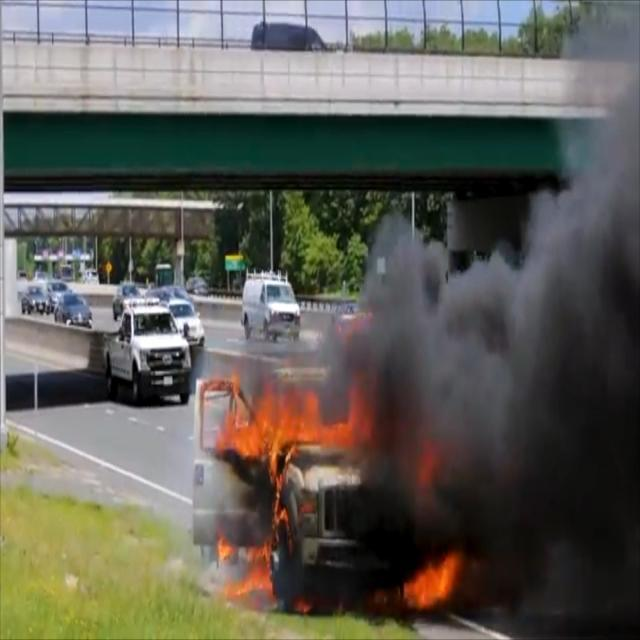fire: (204, 369, 466, 616)
